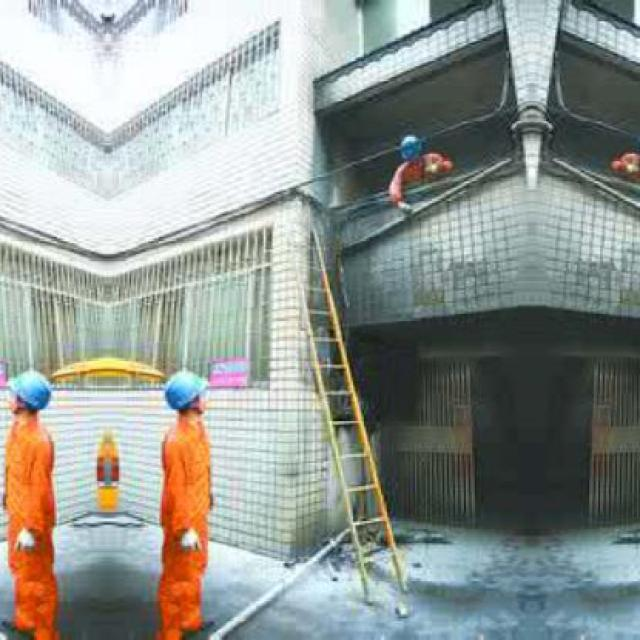helmet: (160, 368, 205, 419), (10, 368, 55, 419), (399, 136, 429, 166)
